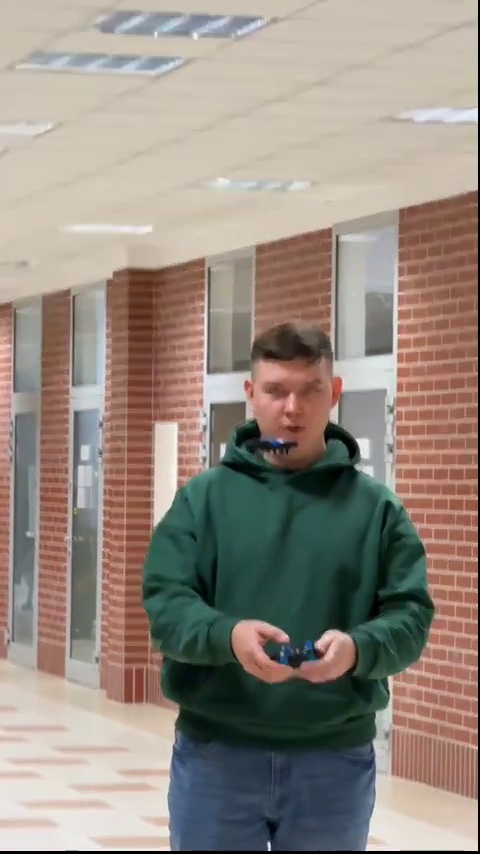drone: (252, 437, 300, 458)
no vest: (148, 321, 434, 849)
